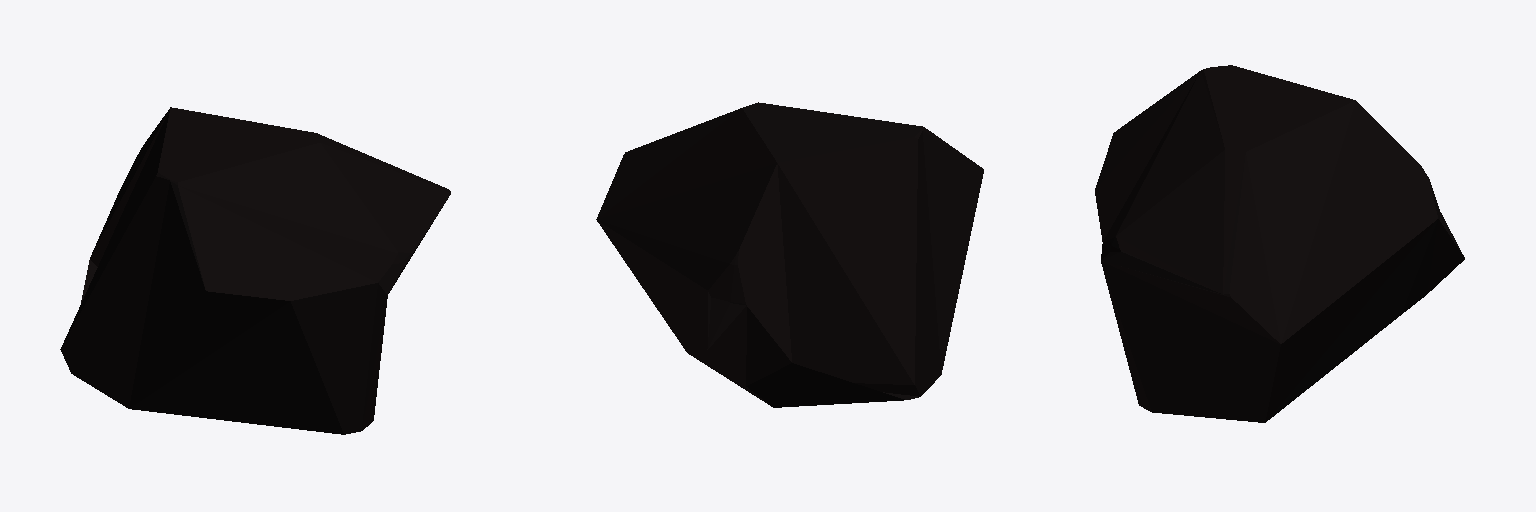
The model's file is tas1.obj.
The picture shows the model from 3 angles: view 1: azimuth 30°, elevation 25°; view 2: azimuth 150°, elevation 25°; view 3: azimuth 270°, elevation 25°; orthographic projection.
Parts seen in each view (by area): view 1: tas1; view 2: tas1; view 3: tas1.
Boxes of the visible parts, <box> form: tas1: <box>60,107,450,434</box>; tas1: <box>596,102,983,407</box>; tas1: <box>1095,65,1464,422</box>.
Bounding box in the file's own units: 29.99 × 22.18 × 28.12.